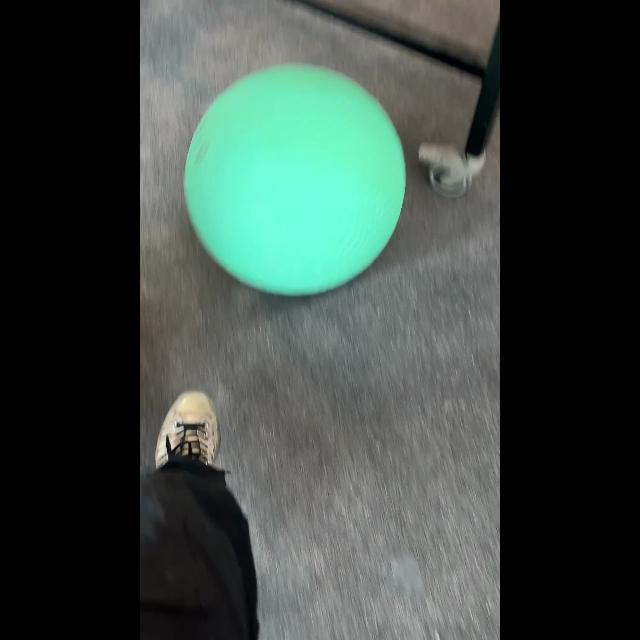ALGAE: (183, 62, 407, 298)
